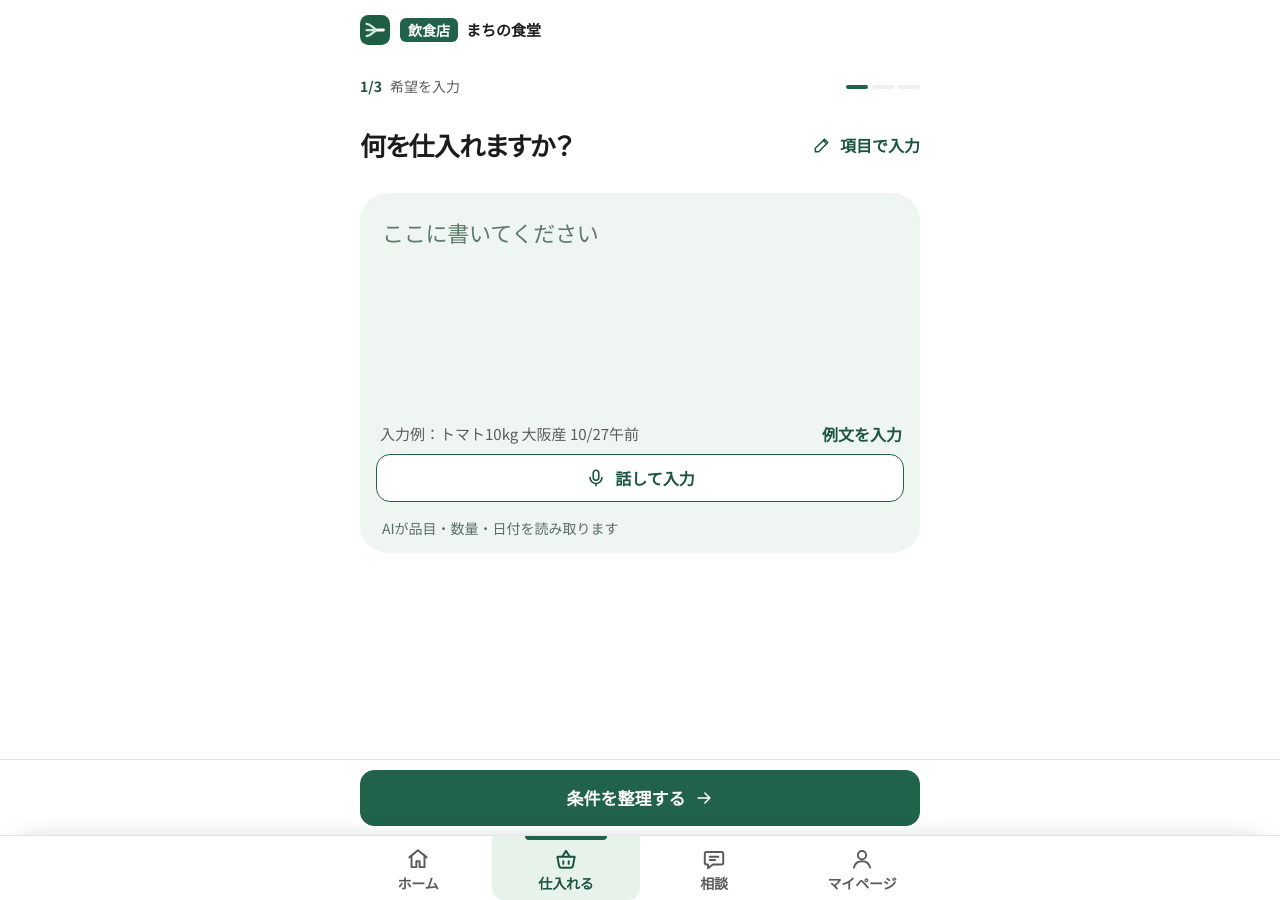
Test: STEP 1 の音声入力（話して入力）：聞き取った文を入力欄に1回だけ加える › 確定の印がないまま終わっても（iPhone など）、いちばん新しい文が入る。AI はまだ呼ばない
Click the button "話して入力" at (640, 478), box [376,454,904,502]
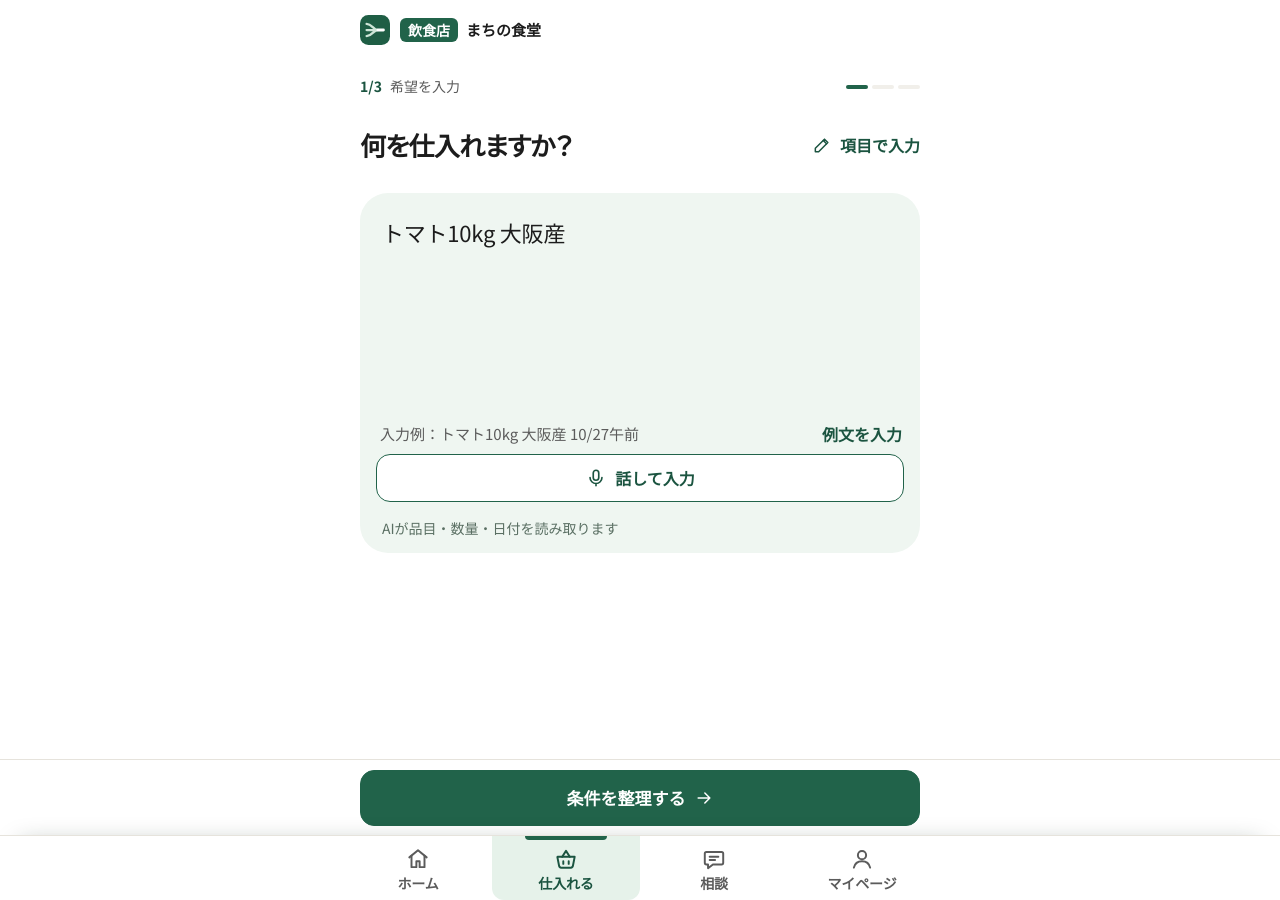
Now the text box holds "トマト10kg 大阪産", box [360,193,920,409]
